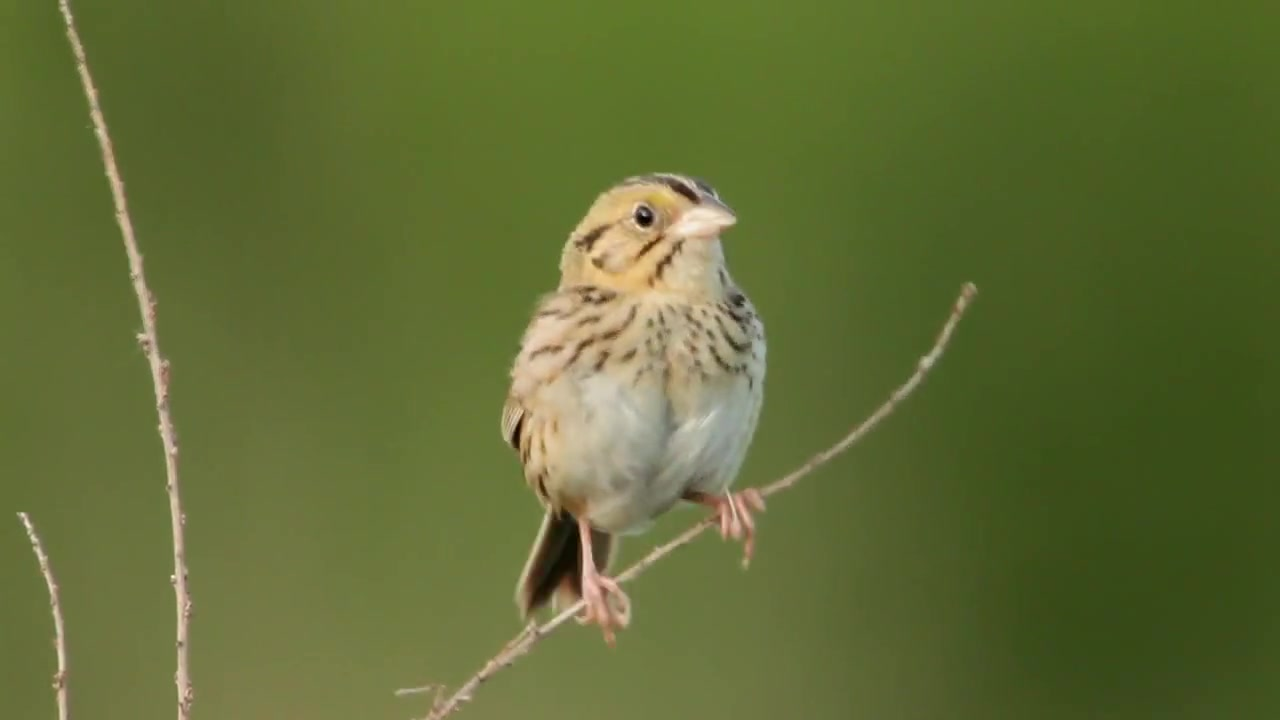bird: (501, 173, 772, 645)
